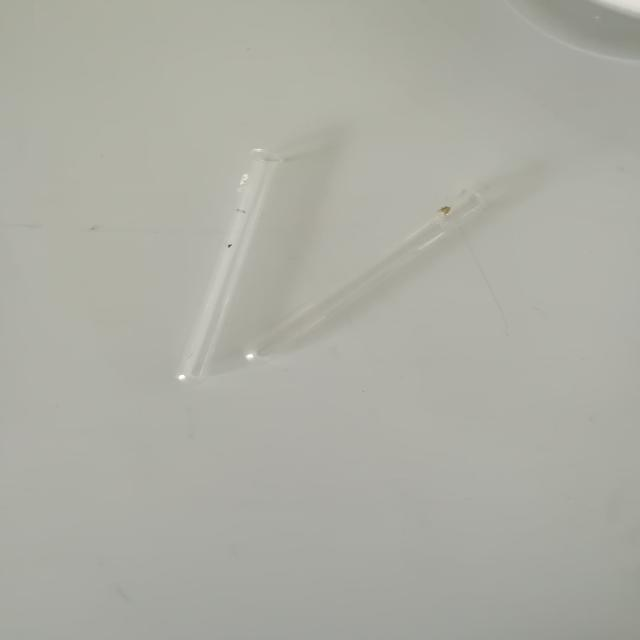Test_Tube: (230, 164, 521, 406), (168, 108, 291, 410)
